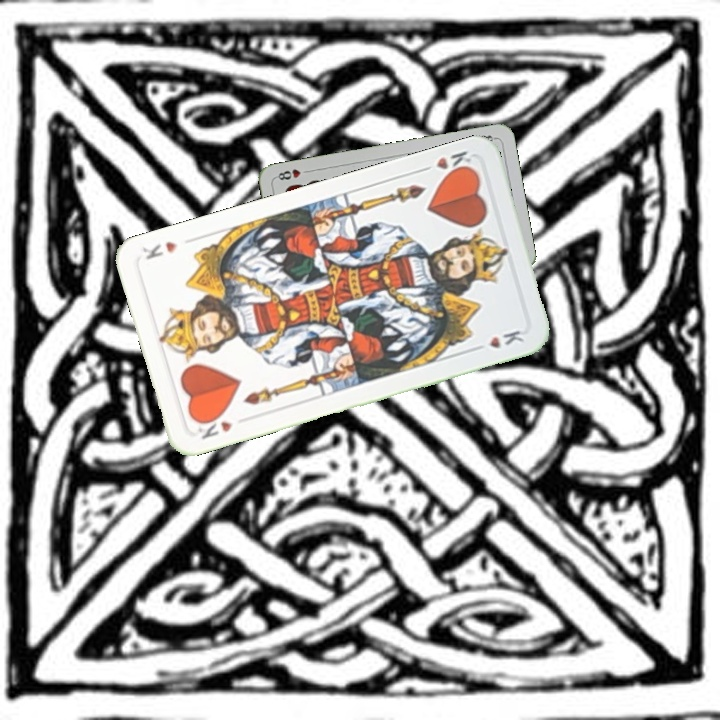HK: (416, 146, 477, 180), (192, 410, 235, 442)
